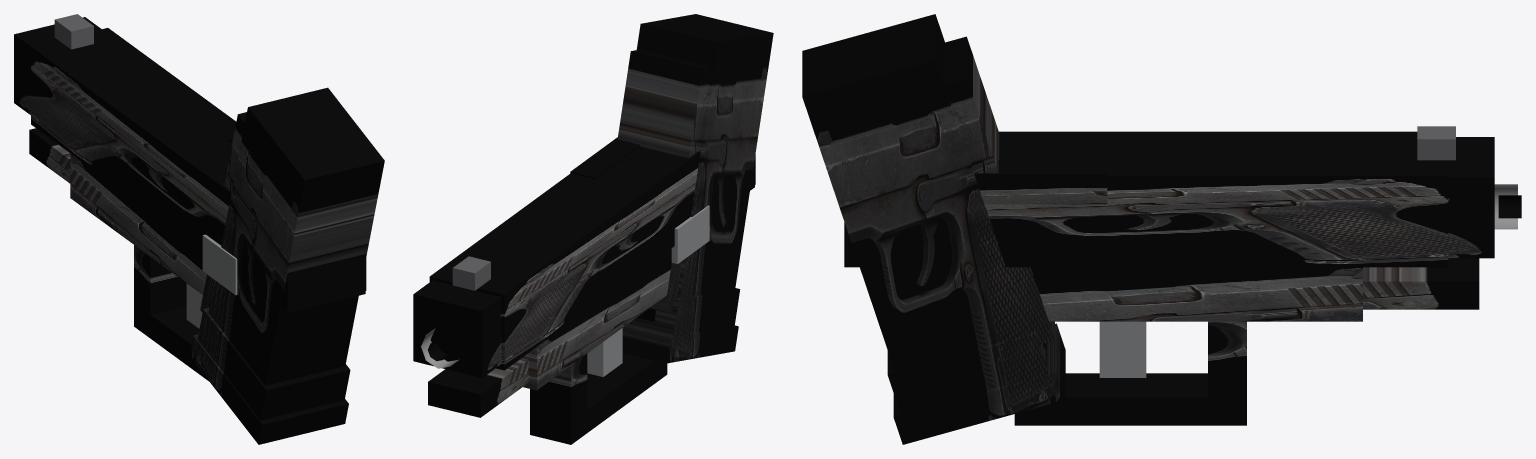
File: pistol_gray.glb
The picture shows the model from 3 angles, left to right: view 1: azimuth 30°, elevation 25°; view 2: azimuth 150°, elevation 25°; view 3: azimuth 270°, elevation 25°; orthographic projection. The views are drawn at different scales.
Visible parts, largest first — view 1: PistolMesh; view 2: PistolMesh; view 3: PistolMesh.
Part boxes in pixels (<box>): PistolMesh: <box>14,14,384,444</box>; PistolMesh: <box>413,14,773,444</box>; PistolMesh: <box>802,14,1521,444</box>.
Bounding box in the file's own units: 0.0302 × 0.1092 × 0.1858.
6 materials, 4 textured.
